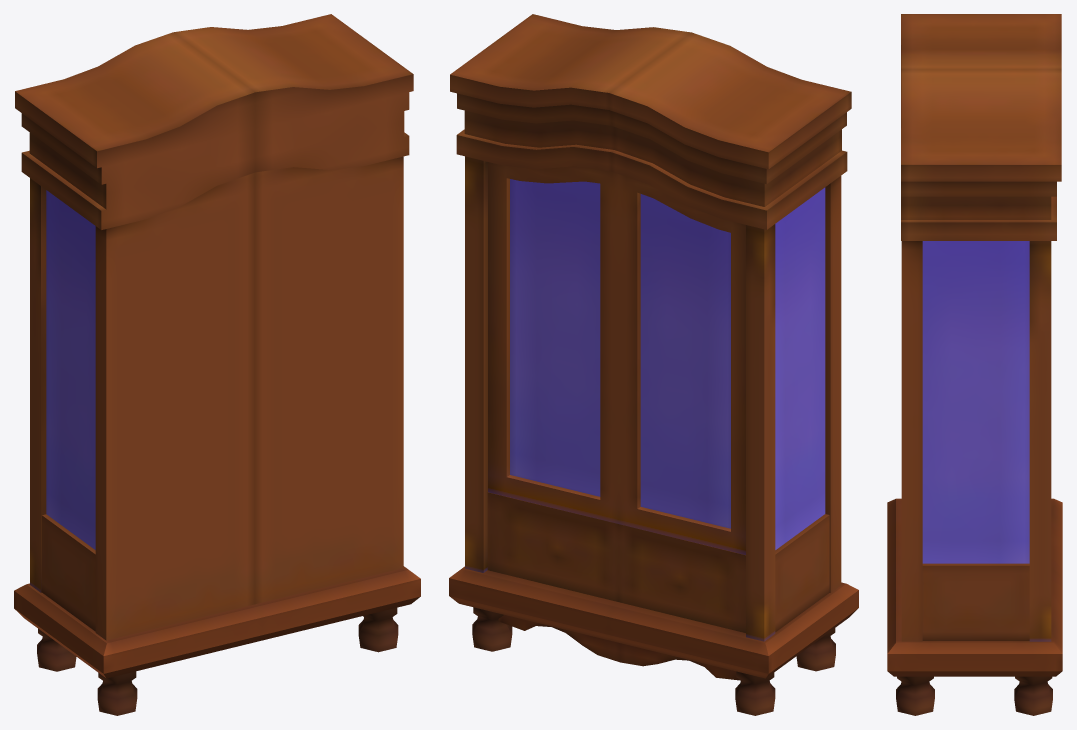
Rendered from Bookcase_02.gltf.
3 renders of one model, left to right at view 1: azimuth 30°, elevation 25°; view 2: azimuth 150°, elevation 25°; view 3: azimuth 270°, elevation 25°, orthographic. The views are drawn at different scales.
Parts seen in each view (by area): view 1: Bookcase_02; view 2: Bookcase_02; view 3: Bookcase_02.
Boxes of the visible parts, x1,y1,x2,y2 form: Bookcase_02: (14,14,420,715); Bookcase_02: (449,14,858,715); Bookcase_02: (887,14,1062,715).
Bounding box in the file's own units: 44.77 × 79.3 × 21.89.
1 material, 1 textured.
